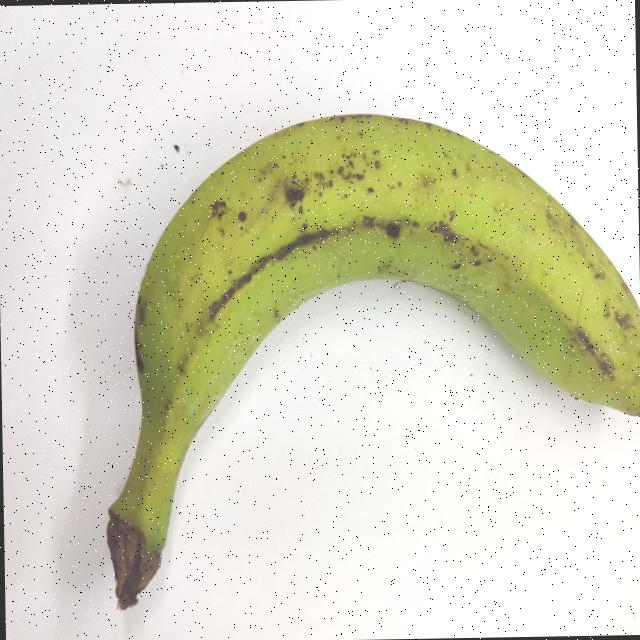Raw: (61, 82, 640, 627)
